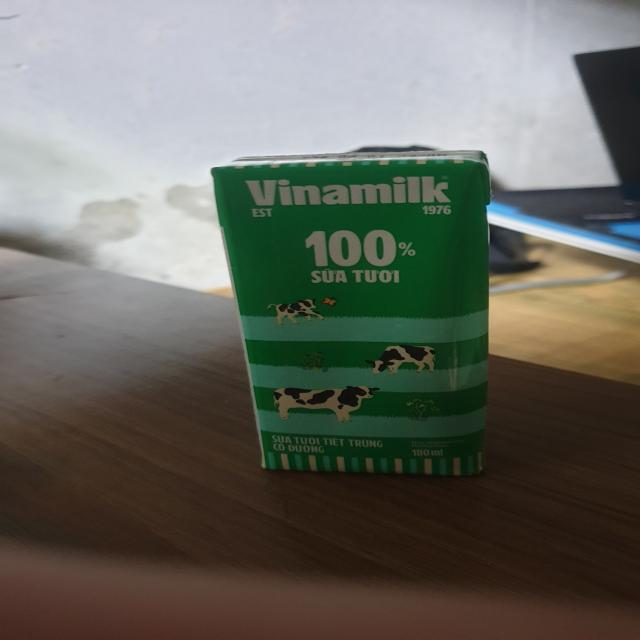Vina: (210, 154, 498, 478)
